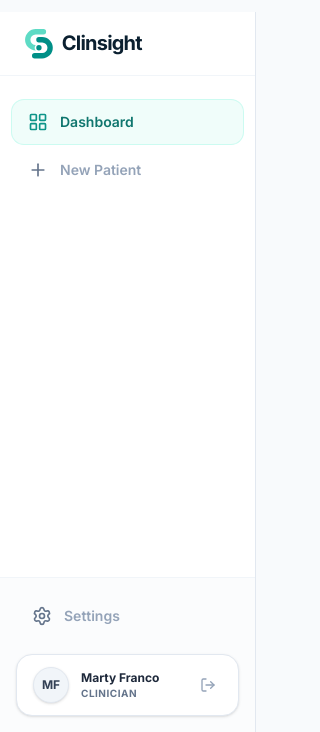
Test: Sidebar navigation › exposes a keyboard-operable collapse control for the primary navigation
The image size is (320, 732).
Click the button named "Collapse sidebar" at x=253, y=372, box [247, 12, 259, 731]
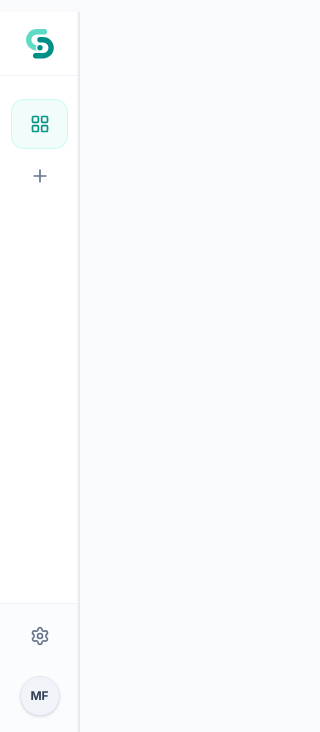
expect the navigation bar named "Primary navigation" is shown: met, box [12, 100, 67, 200]
expect the button named "Expand sidebar" is collapsed: met, box [71, 12, 83, 731]
